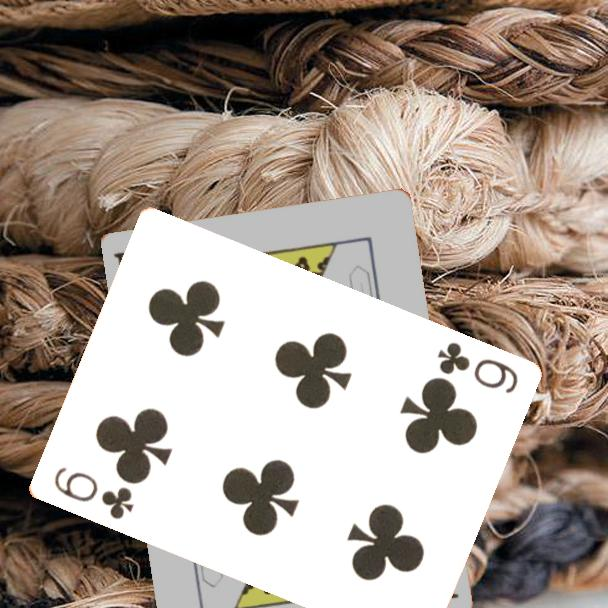c06: (50, 463, 136, 523), (433, 338, 520, 397)
